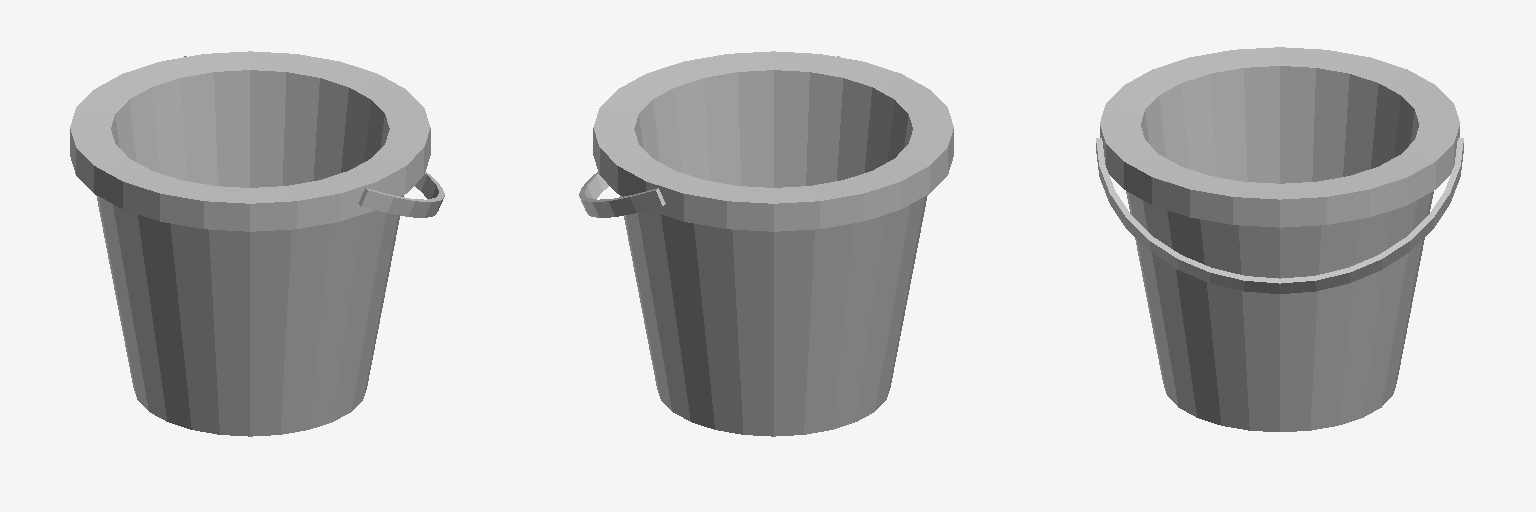
The model's file is bucket.obj.
3 views of the same model, side by side, from view 1: azimuth 30°, elevation 25°; view 2: azimuth 150°, elevation 25°; view 3: azimuth 270°, elevation 25° (orthographic).
Visible parts, largest first — view 1: Circle; view 2: Circle; view 3: Circle.
Boxes of the visible parts, <box> form: Circle: <box>70,51,444,436</box>; Circle: <box>579,51,953,436</box>; Circle: <box>1096,47,1463,431</box>.
Bounding box in the file's own units: 2.91 × 2.23 × 2.87.